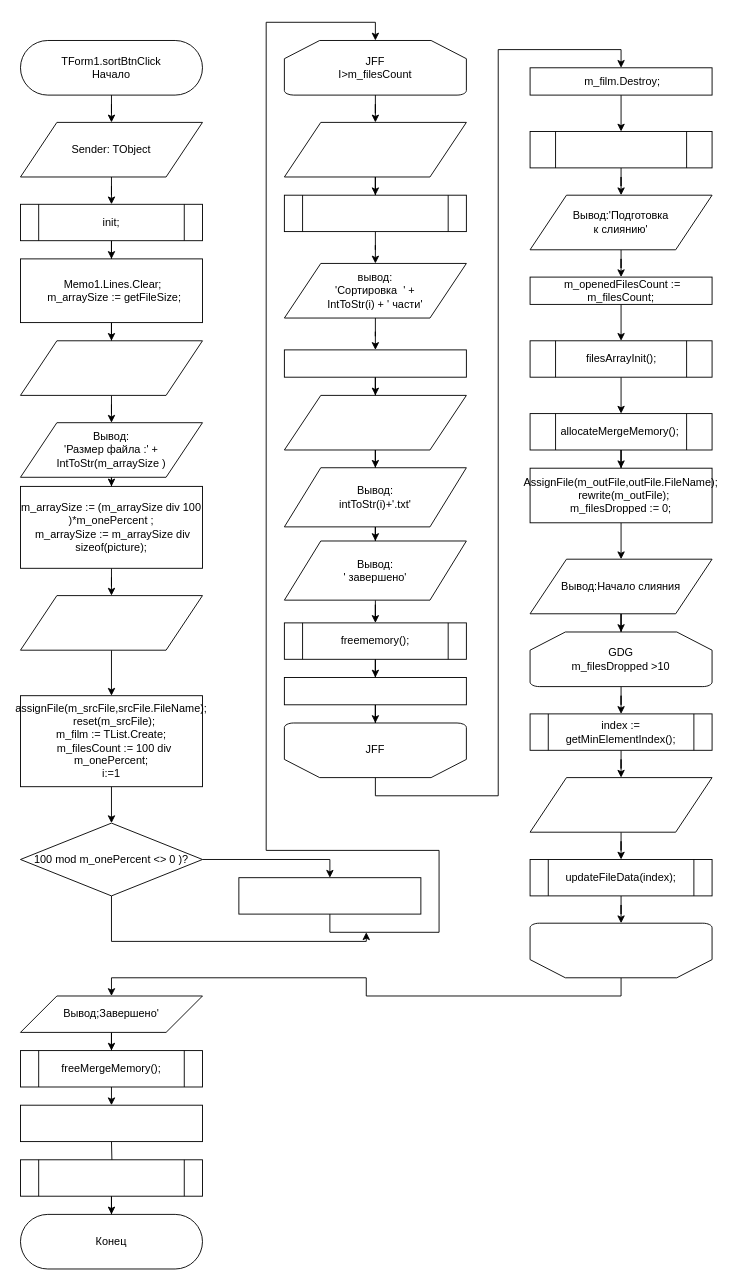
Some shapes in this 733 by 1285 pixel diagram are drawn without their labels. Here are the shapes that lost their labels. From the top down, the centre of each, then its label:
At pixel 374 149: "Вывод:'Чтение ' + IntToStr(i) + ' части'".
At pixel 620 149: "closeFile(m_srcFile);".
At pixel 374 213: "readPart();".
At pixel 111 367: "Вывод: Начало сортировки".
At pixel 374 363: "m_film.Sort(@filmCompare);".
At pixel 374 422: "Вывод: 'Сохранение в : ' + IntToStr(i) + '.txt'".
At pixel 111 622: "Вывод: 'Записей в файле: ' + IntToStr(m_arraySize)".
At pixel 374 691: "i:=i+1".
At pixel 620 804: "Вывод:m_outFile, m_fileData[index]^".
At pixel 329 895: "inc(m_filesCount);".
At pixel 620 950: "GDG".
At pixel 111 1123: "setLength(m_fileArray,0);".
At pixel 111 1177: "closeFile(m_outFile);".
